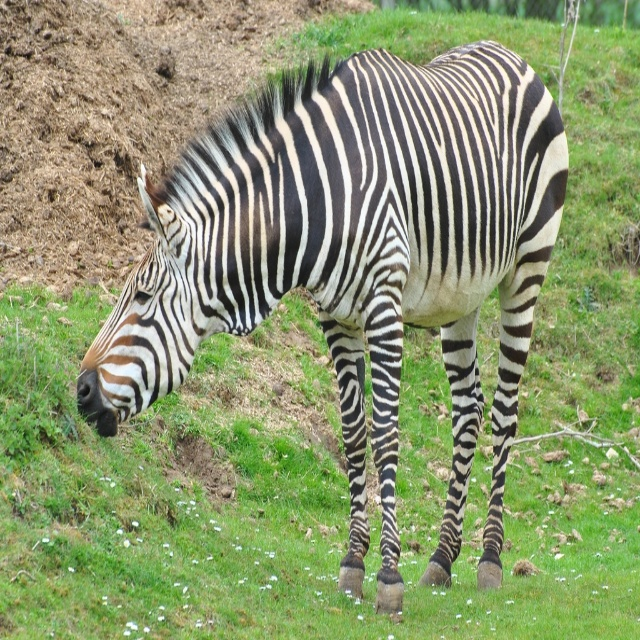Zebra: (77, 39, 569, 615)
